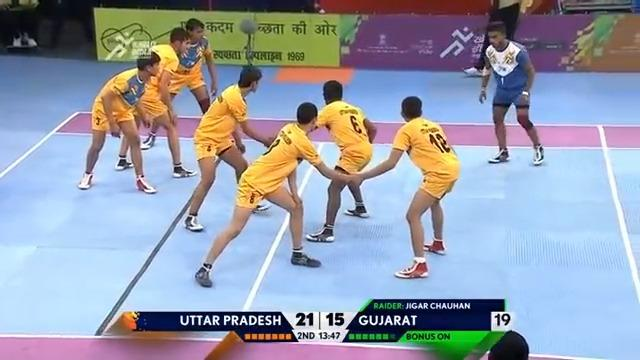Player: (194, 101, 353, 287), (344, 95, 460, 278), (183, 64, 276, 231), (114, 27, 197, 178), (77, 52, 160, 194), (304, 79, 376, 242), (463, 0, 533, 76)
Raider: (478, 20, 544, 165)
referee: (36, 0, 96, 48), (0, 0, 41, 47), (486, 329, 529, 359)
